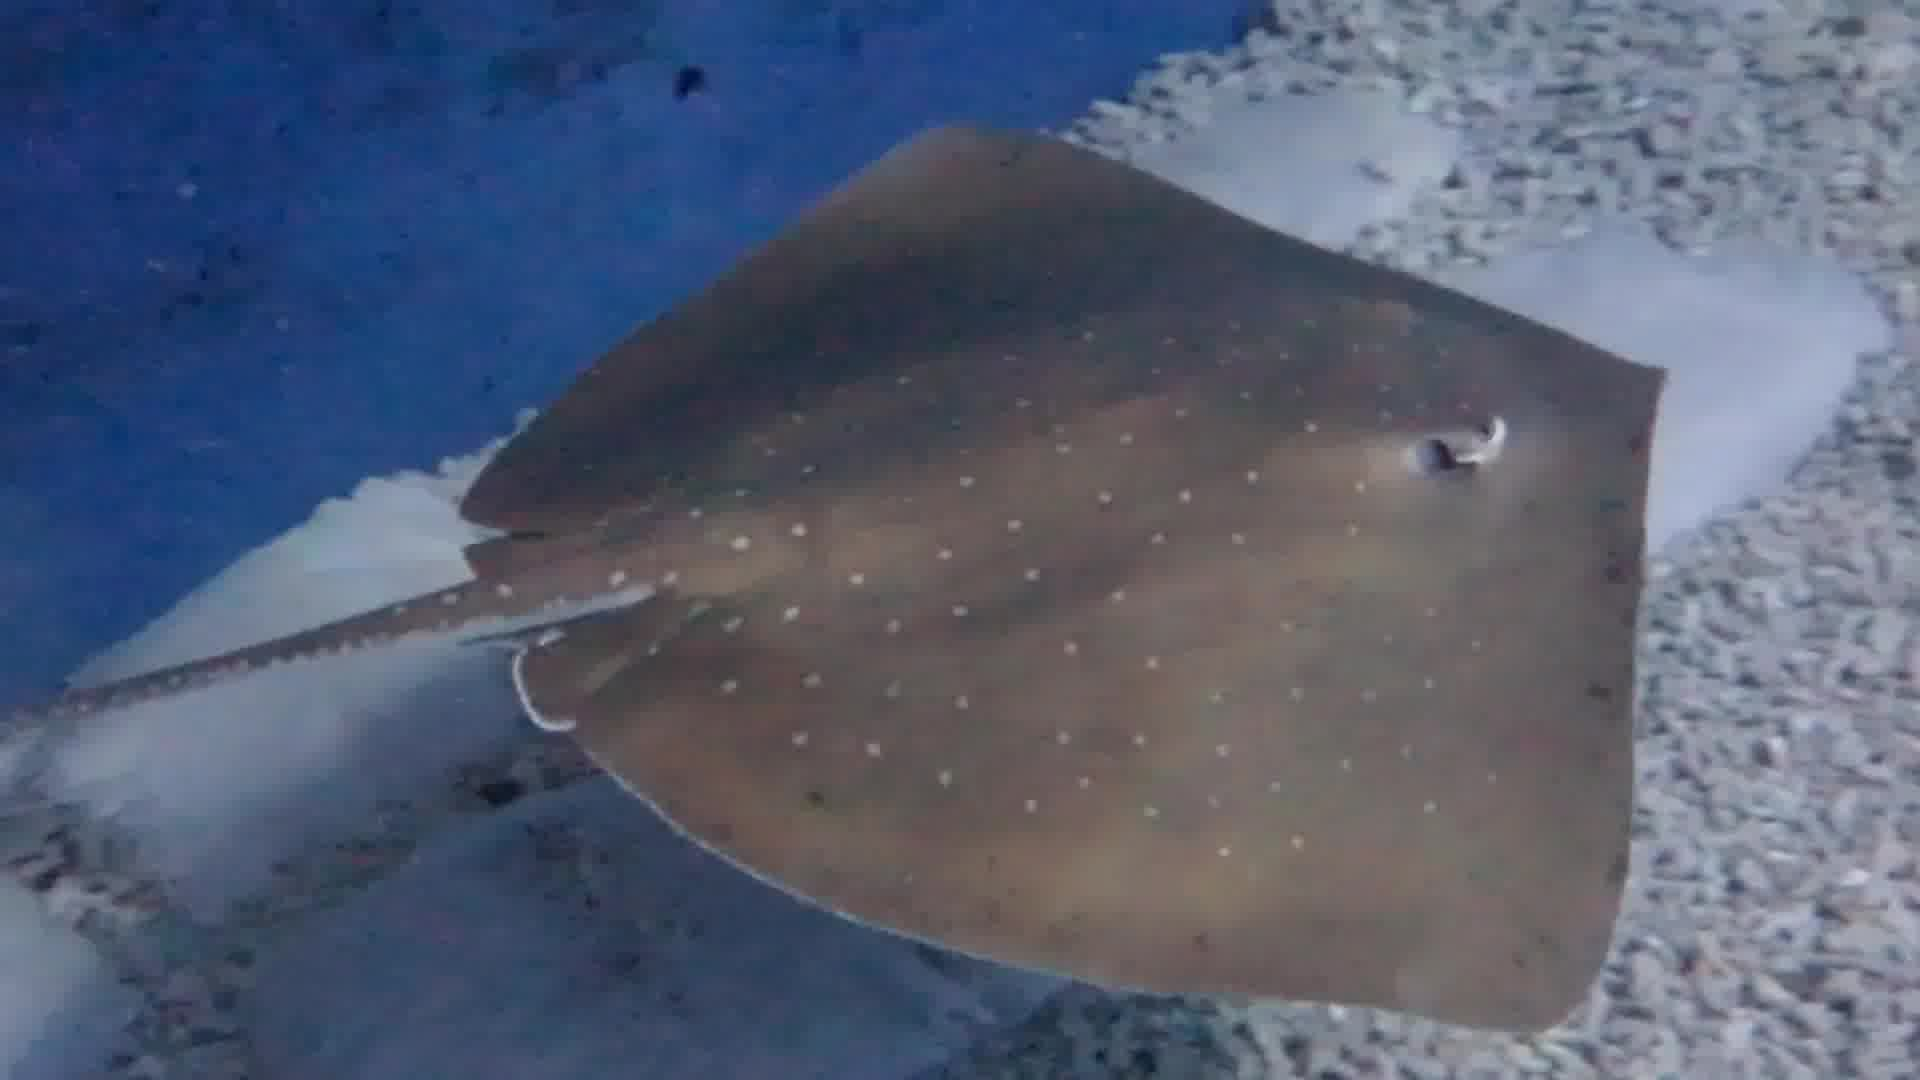Himantura gerrardi: (36, 80, 1706, 1036)
